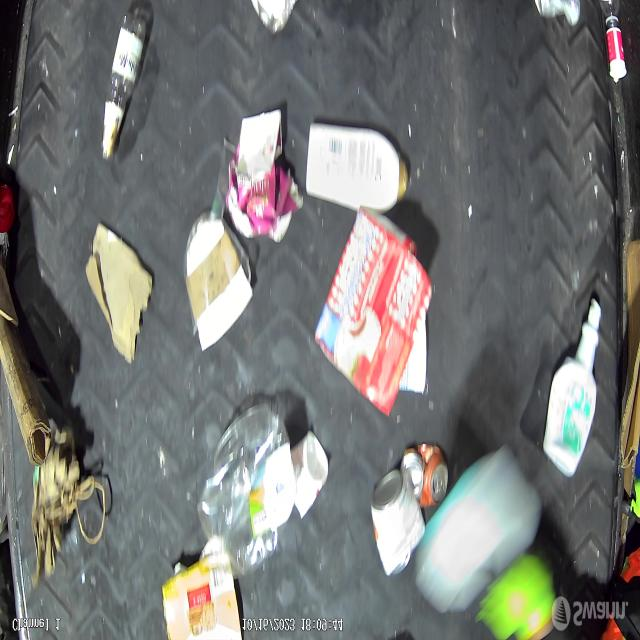can: (371, 467, 426, 576), (401, 442, 449, 507)
non_white_jug: (225, 108, 303, 245)
plastic_bottle: (198, 403, 294, 579)
